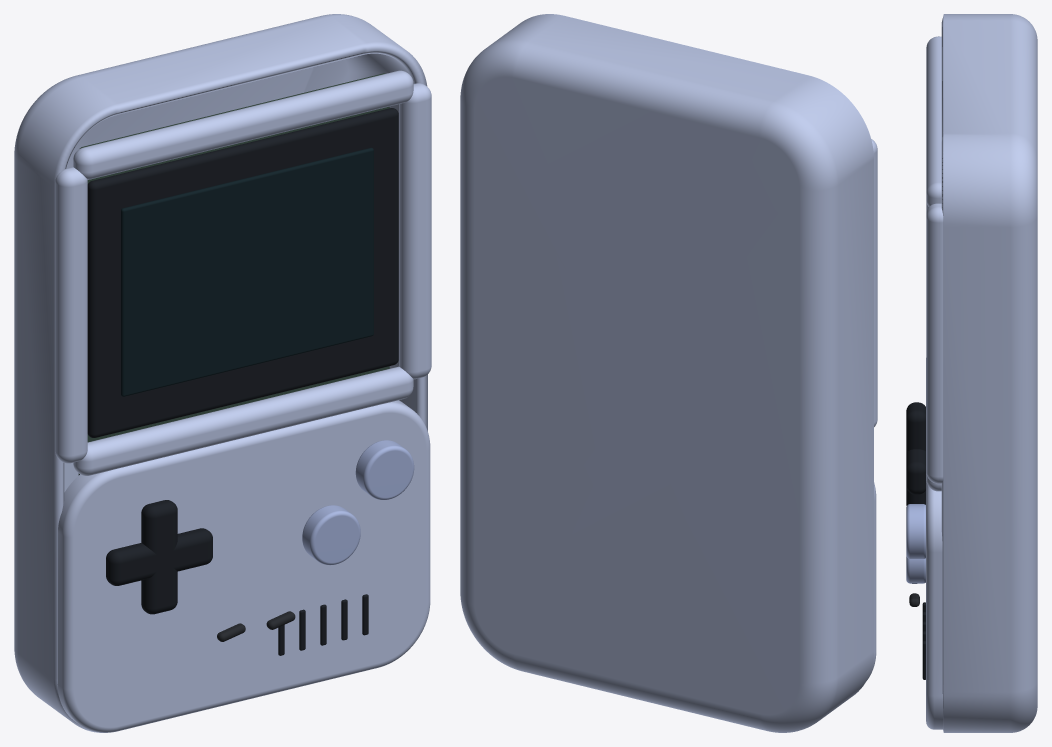
Rendered from pocket-console.glb.
3 renders of one model, left to right at view 1: azimuth 30°, elevation 25°; view 2: azimuth 150°, elevation 25°; view 3: azimuth 270°, elevation 25°, orthographic. The views are drawn at different scales.
Visible parts, largest first — view 1: fitted-rounded-panel, hollow-rounded-housing, display-unit-004, display-unit-003, control-face-008, control-face-007, control-face-005, control-face-006, d-pad-and-action-keys-2-016, d-pad-and-action-keys-1-015, d-pad-and-action-keys-4-018, d-pad-and-action-keys-3-017 (+1 smaller); view 2: hollow-rounded-housing, control-face-005; view 3: hollow-rounded-housing, control-face-006, fitted-rounded-panel, control-face-008, d-pad-and-action-keys-2-016, d-pad-and-action-keys-4-018, d-pad-and-action-keys-1-015, d-pad-and-action-keys-3-017.
Boxes of the visible parts, left/top/right/bottom form: fitted-rounded-panel: left=57, top=400, right=430, bottom=732; hollow-rounded-housing: left=14, top=14, right=427, bottom=732; display-unit-004: left=121, top=147, right=373, bottom=396; display-unit-003: left=87, top=108, right=398, bottom=437; control-face-008: left=73, top=70, right=413, bottom=179; control-face-007: left=73, top=366, right=413, bottom=475; control-face-005: left=55, top=167, right=87, bottom=463; control-face-006: left=399, top=83, right=431, bottom=379; d-pad-and-action-keys-2-016: left=141, top=500, right=177, bottom=614; d-pad-and-action-keys-1-015: left=106, top=528, right=212, bottom=585; d-pad-and-action-keys-4-018: left=355, top=440, right=414, bottom=499; d-pad-and-action-keys-3-017: left=302, top=505, right=360, bottom=565; hollow-rounded-housing: left=460, top=14, right=873, bottom=732; control-face-005: left=871, top=139, right=877, bottom=426; hollow-rounded-housing: left=941, top=14, right=1037, bottom=732; control-face-006: left=926, top=203, right=943, bottom=483; fitted-rounded-panel: left=926, top=358, right=943, bottom=729; control-face-008: left=926, top=36, right=941, bottom=206; d-pad-and-action-keys-2-016: left=906, top=402, right=925, bottom=505; d-pad-and-action-keys-4-018: left=906, top=504, right=925, bottom=558; d-pad-and-action-keys-1-015: left=906, top=449, right=925, bottom=494; d-pad-and-action-keys-3-017: left=906, top=556, right=925, bottom=583.
Size of the model in its own units: 1.25 by 2 by 0.4013.
